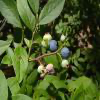Blueberry leaf: (38, 1, 69, 29), (11, 45, 28, 86), (1, 0, 23, 31), (18, 0, 38, 31)
